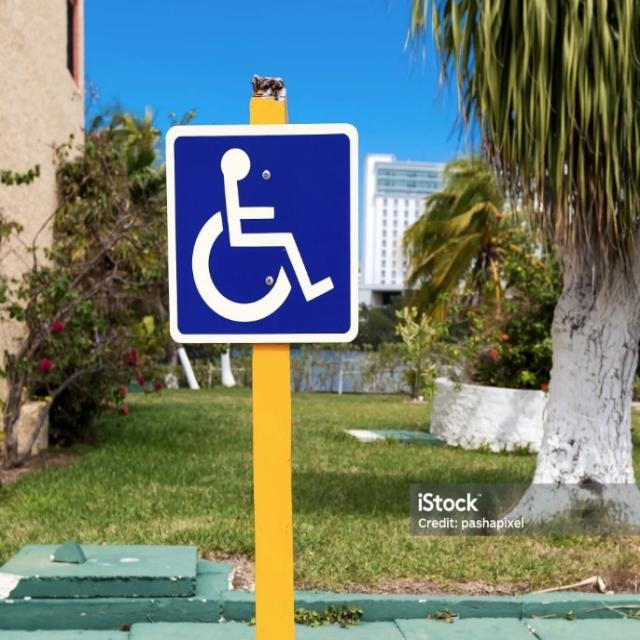symbol_of_access: (164, 121, 361, 348)
